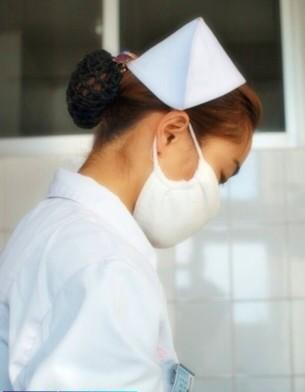OK: (137, 137, 252, 252)
